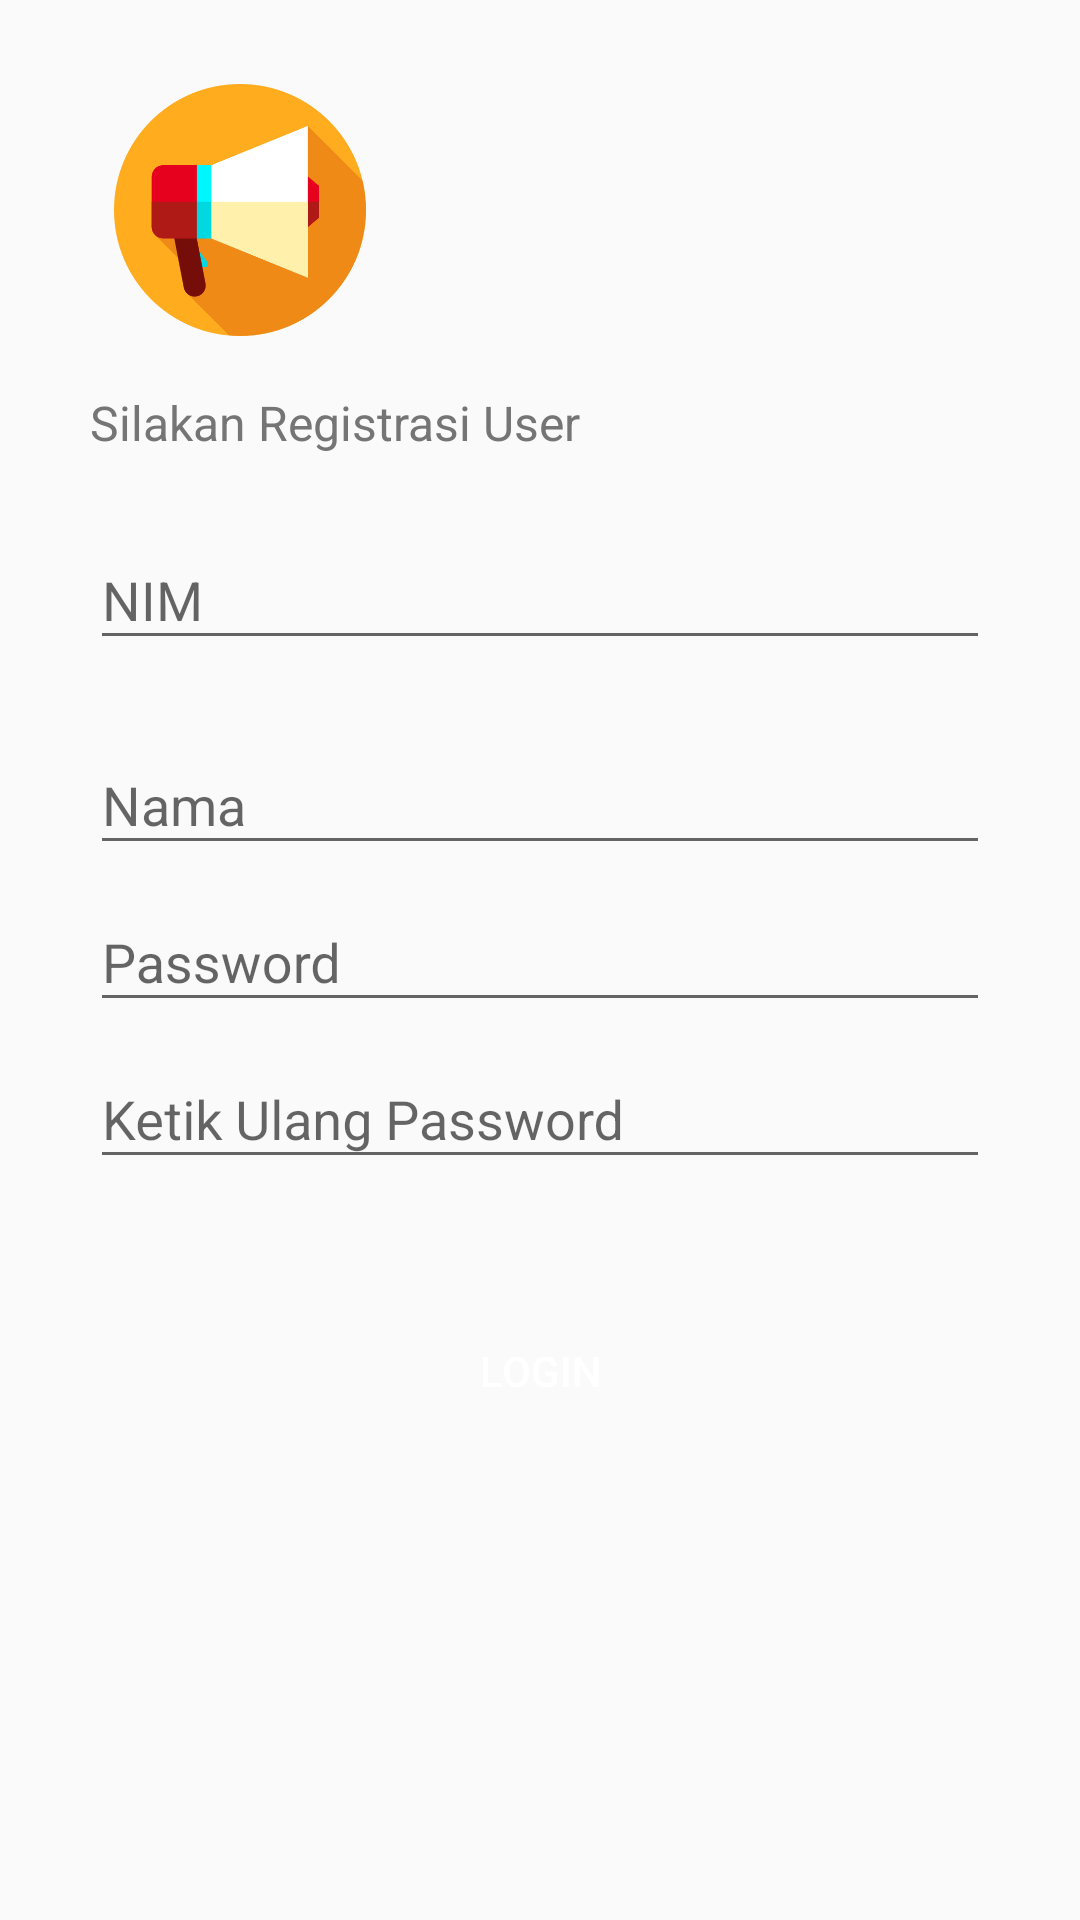

Icon bounding boxes for this 1080*1920 phone screenshot, format (x1, y1, x2, y2):
megaphone: (114, 84, 366, 336)
